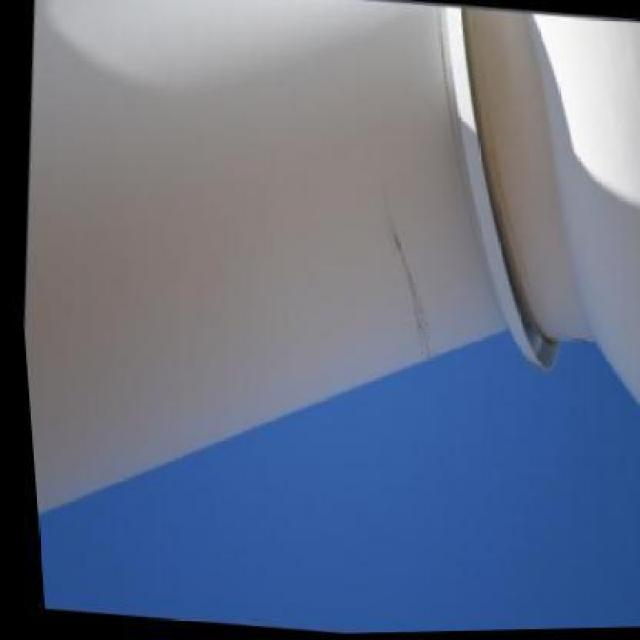Crack: (363, 194, 442, 363)
